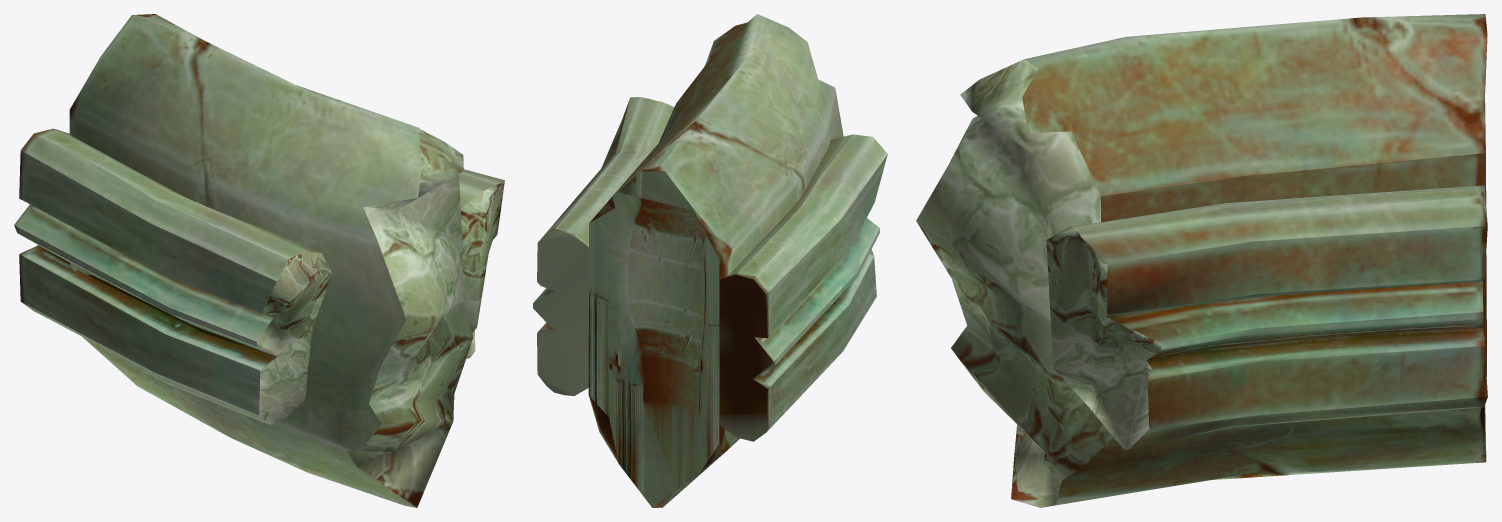
Rendered from Ruins_Collumn_Arch_Dmg_B.fbx.
3 renders of one model, left to right at view 1: azimuth 30°, elevation 25°; view 2: azimuth 150°, elevation 25°; view 3: azimuth 270°, elevation 25°, orthographic. The views are drawn at different scales.
Parts seen in each view (by area): view 1: Ruins_Collumn_Arch_Dmg_B; view 2: Ruins_Collumn_Arch_Dmg_B; view 3: Ruins_Collumn_Arch_Dmg_B.
Part boxes in pixels (<box>): Ruins_Collumn_Arch_Dmg_B: <box>14,14,504,507</box>; Ruins_Collumn_Arch_Dmg_B: <box>533,14,887,507</box>; Ruins_Collumn_Arch_Dmg_B: <box>916,14,1487,507</box>.
Bounding box in the file's own units: 383 × 430 × 492.
